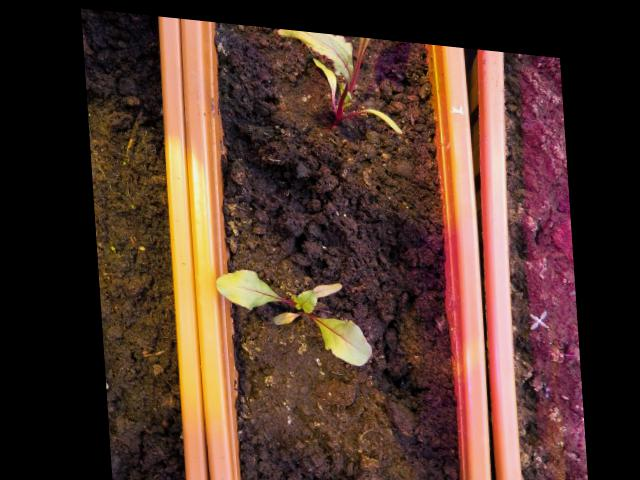weed: (523, 293, 552, 322)
